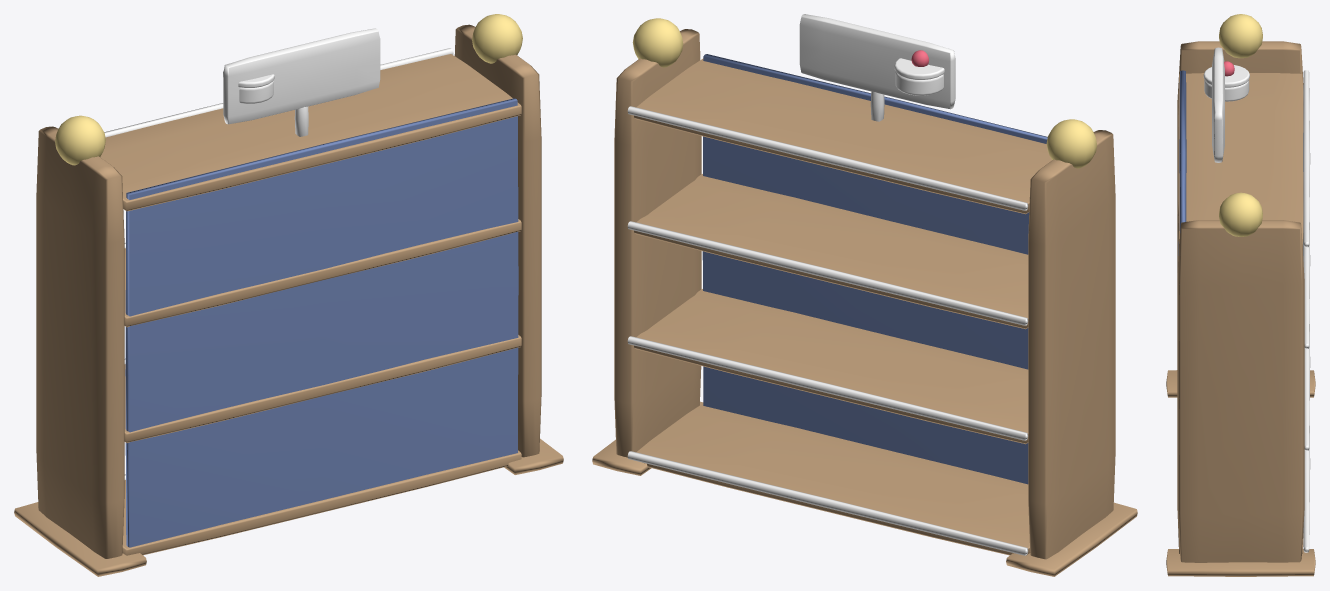
The model's file is CakeShelf.glb.
The picture shows the model from 3 angles, left to right: view 1: azimuth 30°, elevation 25°; view 2: azimuth 150°, elevation 25°; view 3: azimuth 270°, elevation 25°; orthographic projection. The views are drawn at different scales.
Visible parts, largest first — view 1: Back, Frame, Sign, Caps, Stripe, Icon; view 2: Frame, Back, Stripe, Sign, Caps, Icon; view 3: Frame, Stripe, Caps, Sign, Back, Icon.
Part boxes in pixels (left/top/right/bottom): Back: left=125, top=98, right=518, bottom=547; Frame: left=14, top=24, right=563, bottom=576; Sign: left=223, top=28, right=380, bottom=136; Caps: left=55, top=14, right=522, bottom=165; Stripe: left=104, top=48, right=453, bottom=479; Icon: left=223, top=71, right=274, bottom=103; Frame: left=592, top=29, right=1137, bottom=576; Back: left=702, top=54, right=1047, bottom=484; Stripe: left=627, top=106, right=1028, bottom=555; Sign: left=799, top=14, right=955, bottom=121; Caps: left=632, top=18, right=1096, bottom=168; Icon: left=894, top=58, right=944, bottom=95; Frame: left=1166, top=41, right=1315, bottom=576; Stripe: left=1303, top=70, right=1310, bottom=552; Caps: left=1219, top=14, right=1262, bottom=236; Sign: left=1212, top=47, right=1224, bottom=162; Back: left=1178, top=70, right=1186, bottom=255; Icon: left=1203, top=65, right=1249, bottom=101.
Bounding box in the file's own units: 12.7 × 11.8 × 4.
